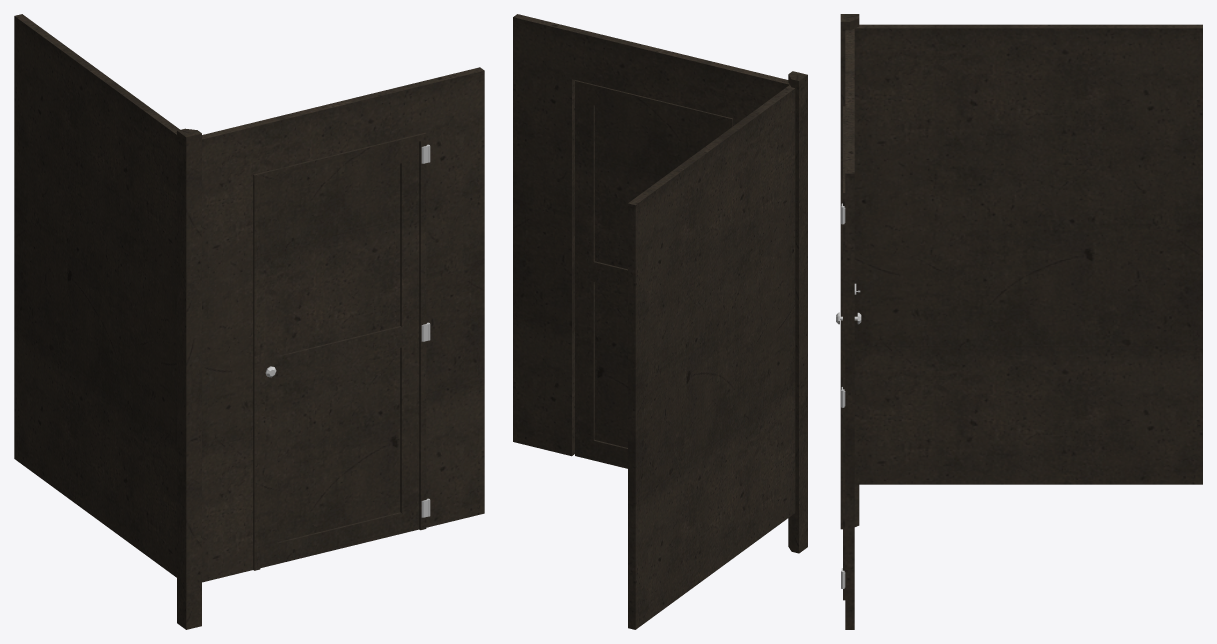
Rendered from toilet_cabin_mp_1.obj.
3 renders of one model, left to right at view 1: azimuth 30°, elevation 25°; view 2: azimuth 150°, elevation 25°; view 3: azimuth 270°, elevation 25°, orthographic. The views are drawn at different scales.
Visible parts, largest first — view 1: toilet_cabin_mp_1, toilet_cabin_mp_1_door; view 2: toilet_cabin_mp_1, toilet_cabin_mp_1_door; view 3: toilet_cabin_mp_1, toilet_cabin_mp_1_door.
Boxes of the visible parts, left/top/right/bottom form: toilet_cabin_mp_1: left=14, top=14, right=484, bottom=629; toilet_cabin_mp_1_door: left=253, top=132, right=430, bottom=570; toilet_cabin_mp_1: left=513, top=14, right=807, bottom=629; toilet_cabin_mp_1_door: left=575, top=80, right=732, bottom=468; toilet_cabin_mp_1: left=840, top=14, right=1202, bottom=629; toilet_cabin_mp_1_door: left=836, top=106, right=861, bottom=600.
Bounding box in the file's own units: 1.52 × 2.38 × 1.56.
